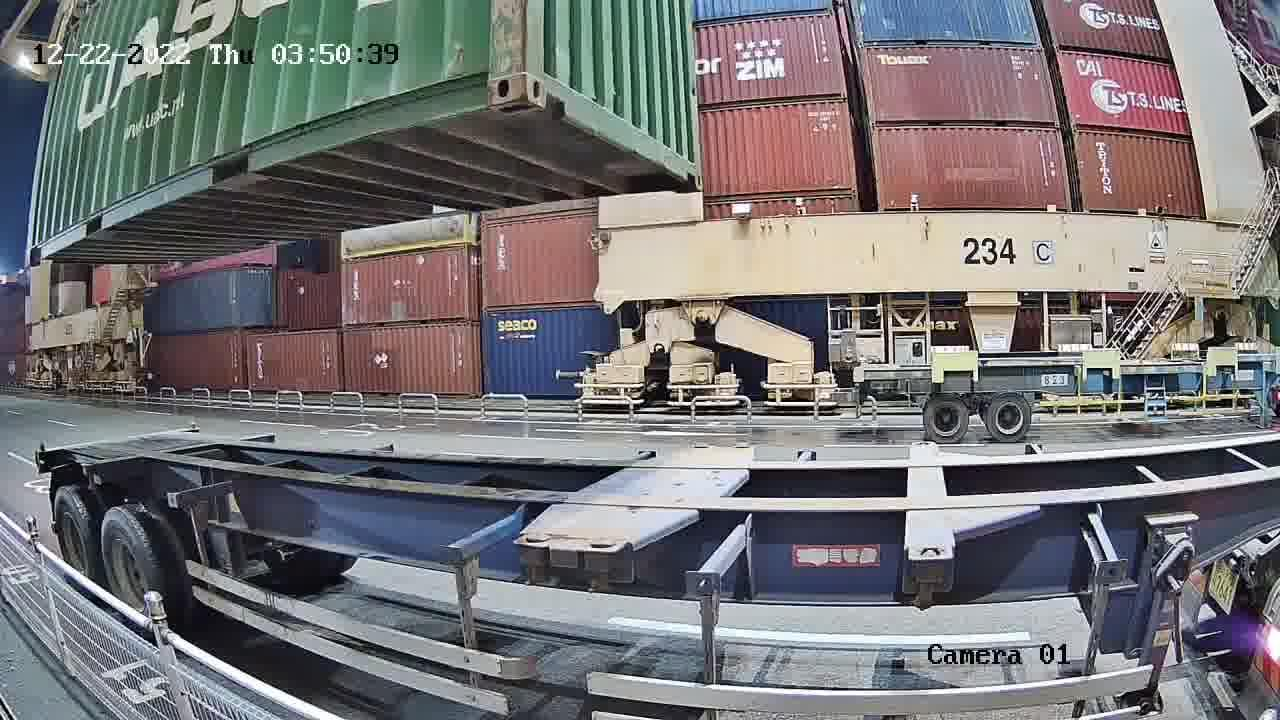Chassis: (515, 445, 716, 546), (589, 445, 752, 552)
Cone: (585, 538, 619, 591), (519, 532, 549, 586)
Hole_L: (524, 46, 570, 112)
Hole_R: (461, 35, 522, 112), (676, 143, 701, 189)
Tire: (101, 510, 157, 636), (56, 490, 96, 590)
